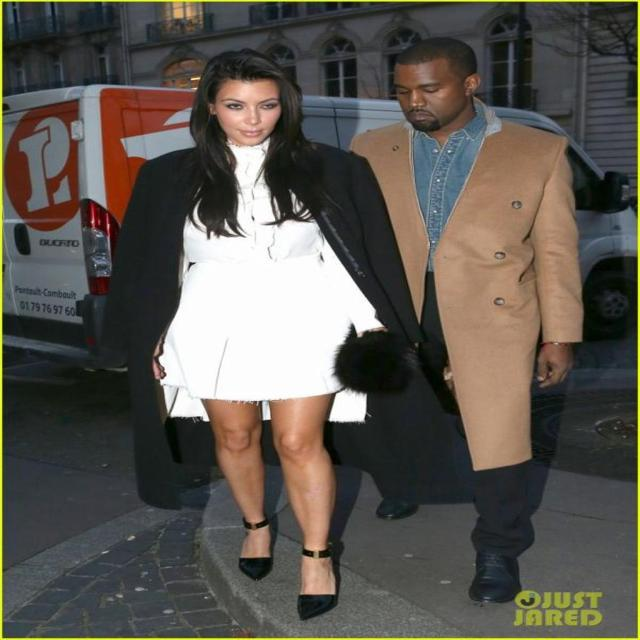Face: (204, 74, 299, 155), (381, 61, 476, 131)
